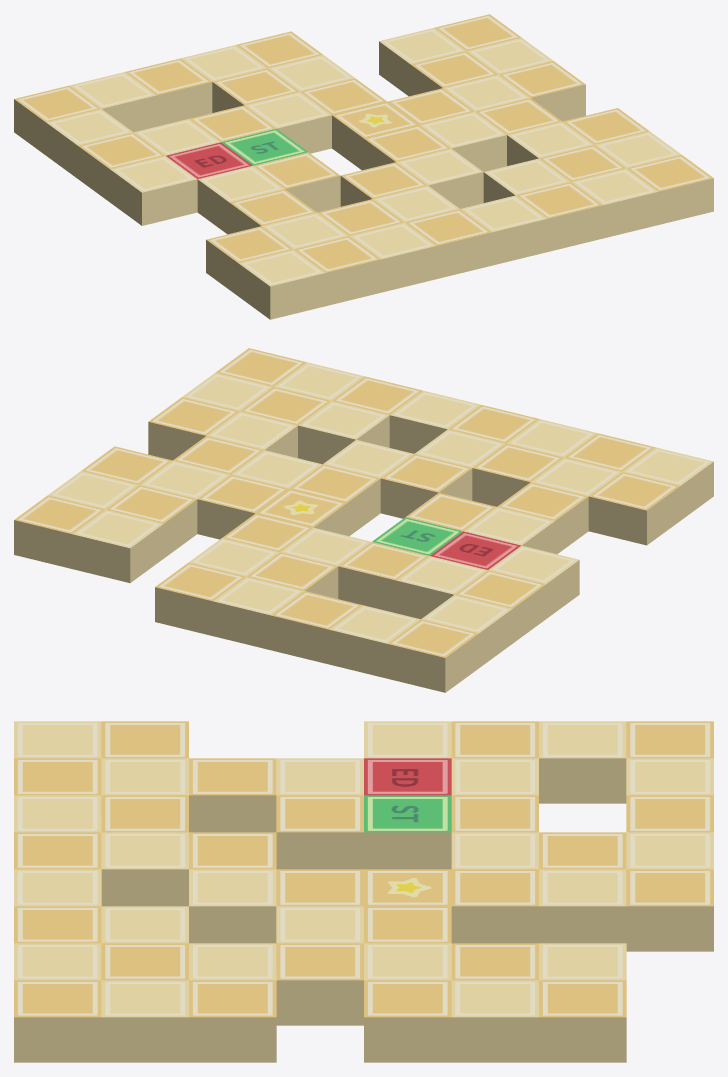
File: mazeBlock3.glb
3 views of the same model, one above another, from view 1: azimuth 30°, elevation 25°; view 2: azimuth 150°, elevation 25°; view 3: azimuth 270°, elevation 25° (orthographic). The views are drawn at different scales.
Visible parts, largest first — view 1: 立方体.023, 立方体.046, 立方体.045, 立方体.043, 立方体.042, 立方体.044, 立方体.048, 立方体.041, 立方体.047, 立方体.018, 立方体.019, 立方体.061 (+37 smaller); view 2: 立方体.040, 立方体.006, 立方体.011, 立方体.018, 立方体.015, 立方体.001, 立方体.013, 立方体.017, 立方体.062, 立方体.016, 立方体.039, 立方体.021 (+37 smaller); view 3: 立方体.001, 立方体.012, 立方体.013, 立方体.022, 立方体.032, 立方体.038, 立方体.047, 立方体.056, 立方体.066, 立方体.027, 立方体.008, 立方体.034 (+37 smaller).
Boxes of the visible parts, left/top/right/bottom form: 立方体.023: left=110, top=156, right=197, bottom=225; 立方体.046: left=238, top=249, right=325, bottom=319; 立方体.045: left=571, top=168, right=658, bottom=238; 立方体.043: left=349, top=222, right=436, bottom=292; 立方体.042: left=460, top=195, right=547, bottom=265; 立方体.044: left=294, top=236, right=380, bottom=305; 立方体.048: left=516, top=182, right=602, bottom=251; 立方体.041: left=405, top=209, right=491, bottom=278; 立方体.047: left=627, top=155, right=713, bottom=224; 立方体.018: left=125, top=58, right=212, bottom=126; 立方体.019: left=245, top=92, right=331, bottom=153; 立方体.061: left=396, top=148, right=483, bottom=208; 立方体.040: left=588, top=472, right=680, bottom=545; 立方体.006: left=387, top=619, right=478, bottom=692; 立方体.011: left=72, top=509, right=163, bottom=582; 立方体.018: left=271, top=591, right=362, bottom=664; 立方体.015: left=329, top=605, right=420, bottom=678; 立方体.001: left=155, top=562, right=245, bottom=635; 立方体.013: left=14, top=495, right=104, bottom=568; 立方体.017: left=213, top=577, right=303, bottom=650; 立方体.062: left=380, top=454, right=472, bottom=518; 立方体.016: left=338, top=542, right=429, bottom=612; 立方体.039: left=298, top=401, right=389, bottom=464; 立方体.021: left=197, top=474, right=288, bottom=539; 立方体.001: left=626, top=869, right=713, bottom=951; 立方体.012: left=539, top=721, right=626, bottom=803; 立方体.013: left=539, top=980, right=626, bottom=1062; 立方体.022: left=364, top=980, right=451, bottom=1062; 立方体.032: left=451, top=980, right=538, bottom=1062; 立方体.038: left=101, top=980, right=188, bottom=1062; 立方体.047: left=14, top=980, right=101, bottom=1062; 立方体.056: left=189, top=980, right=276, bottom=1062; 立方体.066: left=276, top=943, right=363, bottom=1025; 立方体.027: left=364, top=795, right=451, bottom=869; 立方体.008: left=539, top=869, right=626, bottom=943; 立方体.034: left=451, top=869, right=538, bottom=943.
Size of the model in its own units: 40 by 2.87 by 40.
98 materials, 49 textured.
